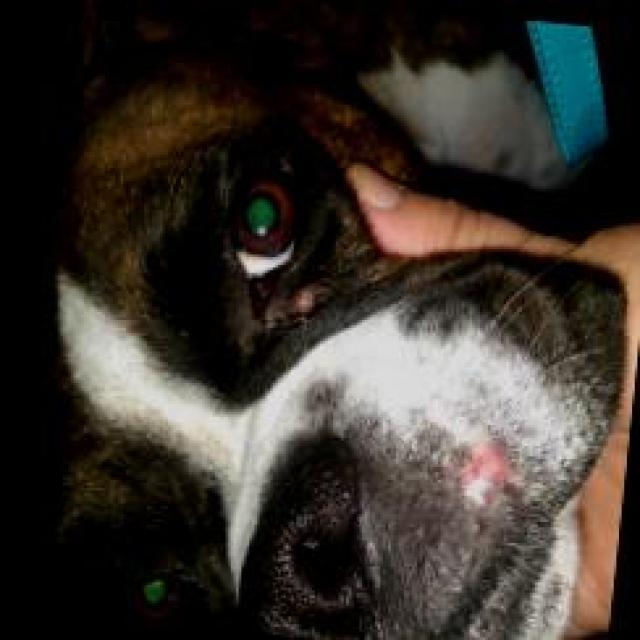allergic dermatitis: (448, 438, 518, 510), (287, 280, 315, 320)
